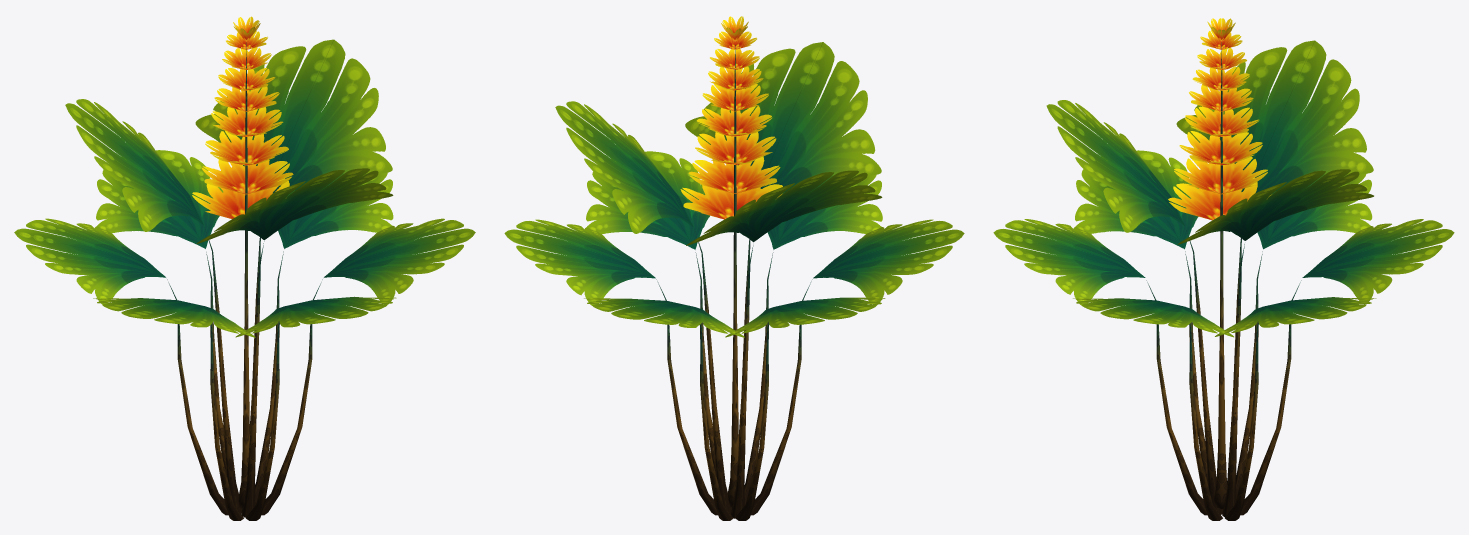
The model's file is Green_Tree_07d.FBX.
3 views of the same model, side by side, from view 1: azimuth 30°, elevation 25°; view 2: azimuth 150°, elevation 25°; view 3: azimuth 270°, elevation 25° (orthographic).
Parts seen in each view (by area): view 1: Green_Tree_07d; view 2: Green_Tree_07d; view 3: Green_Tree_07d.
Part boxes in pixels (left/top/right/bottom): Green_Tree_07d: left=14, top=16, right=475, bottom=520; Green_Tree_07d: left=504, top=16, right=964, bottom=520; Green_Tree_07d: left=993, top=18, right=1454, bottom=520.
Bounding box in the file's own units: 262 × 342 × 291.
